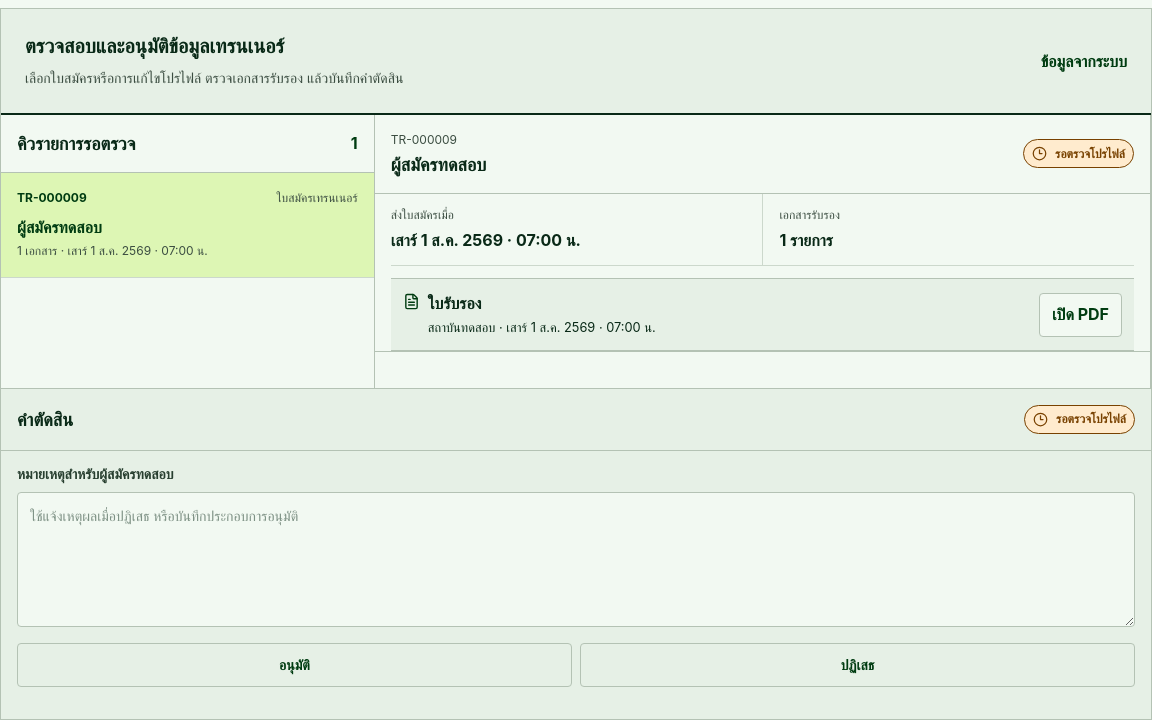
it: AdminReviewQueue › explains a stale 409 decision after reloading the queue
(page scrolled)
Click the button "อนุมัติ". click: x=294, y=665
box: [17,643,572,687]
(page scrolled)
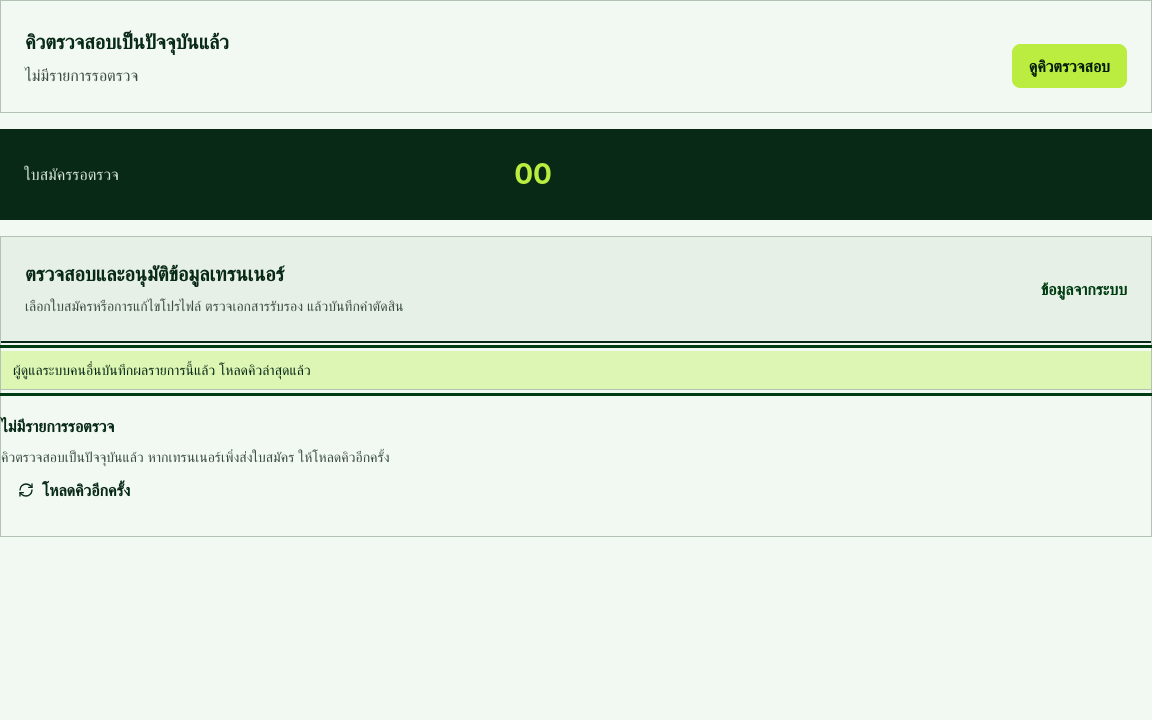
Check: the message reads "ผู้ดูแลระบบคนอื่นบันทึกผลรายการนี้แล้ว โหลดคิวล่าสุดแล้ว", box [13,361,311,378]
